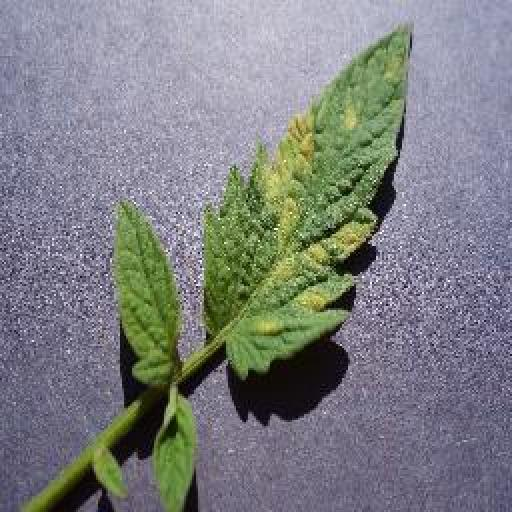disease_tomato: (206, 19, 415, 381)
